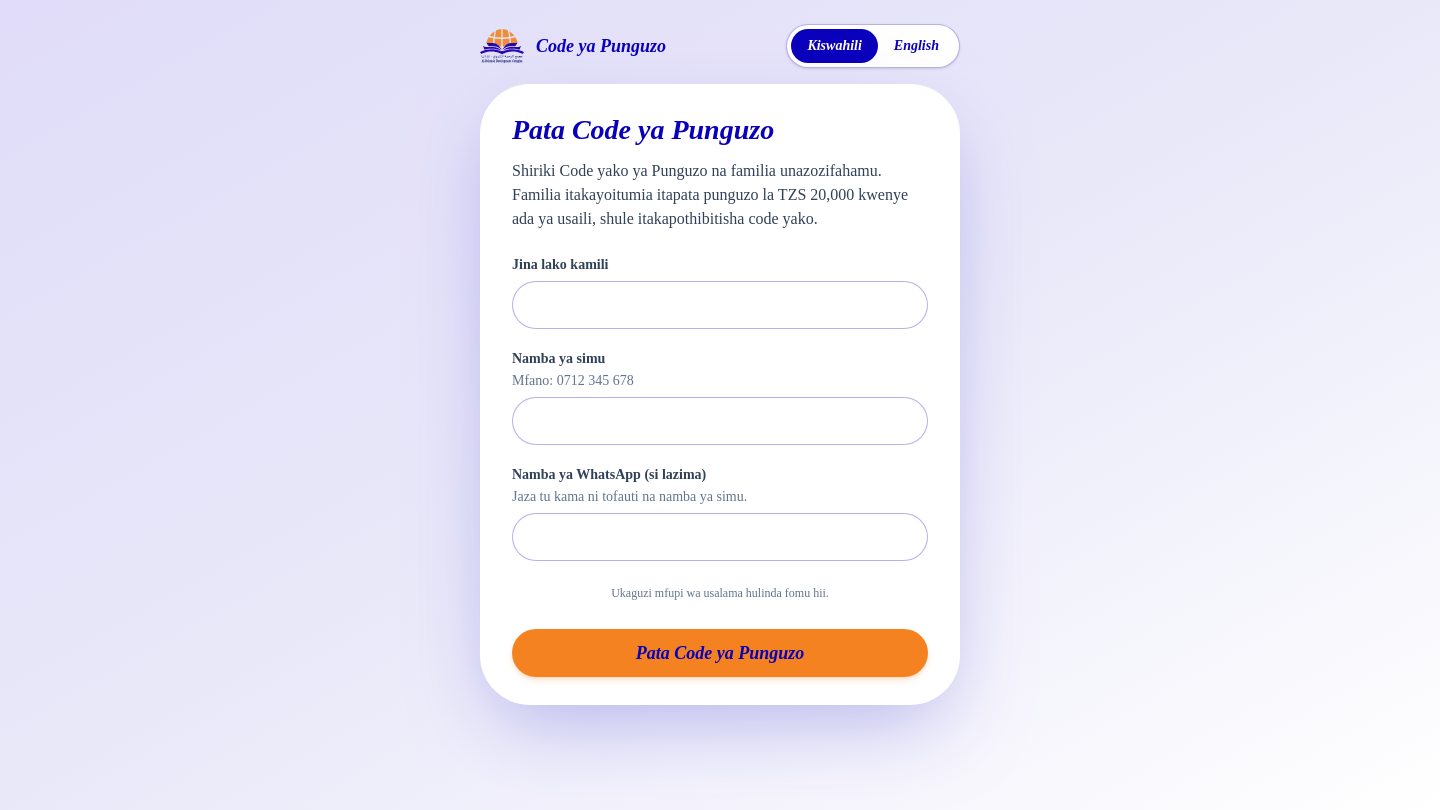
Test: the Discount code page › waits for the security check before sending
Type "Rehema Juma" into the field labelled "Jina lako kamili".
click(720, 305); type("Rehema Juma")  # box [512,281,928,329]
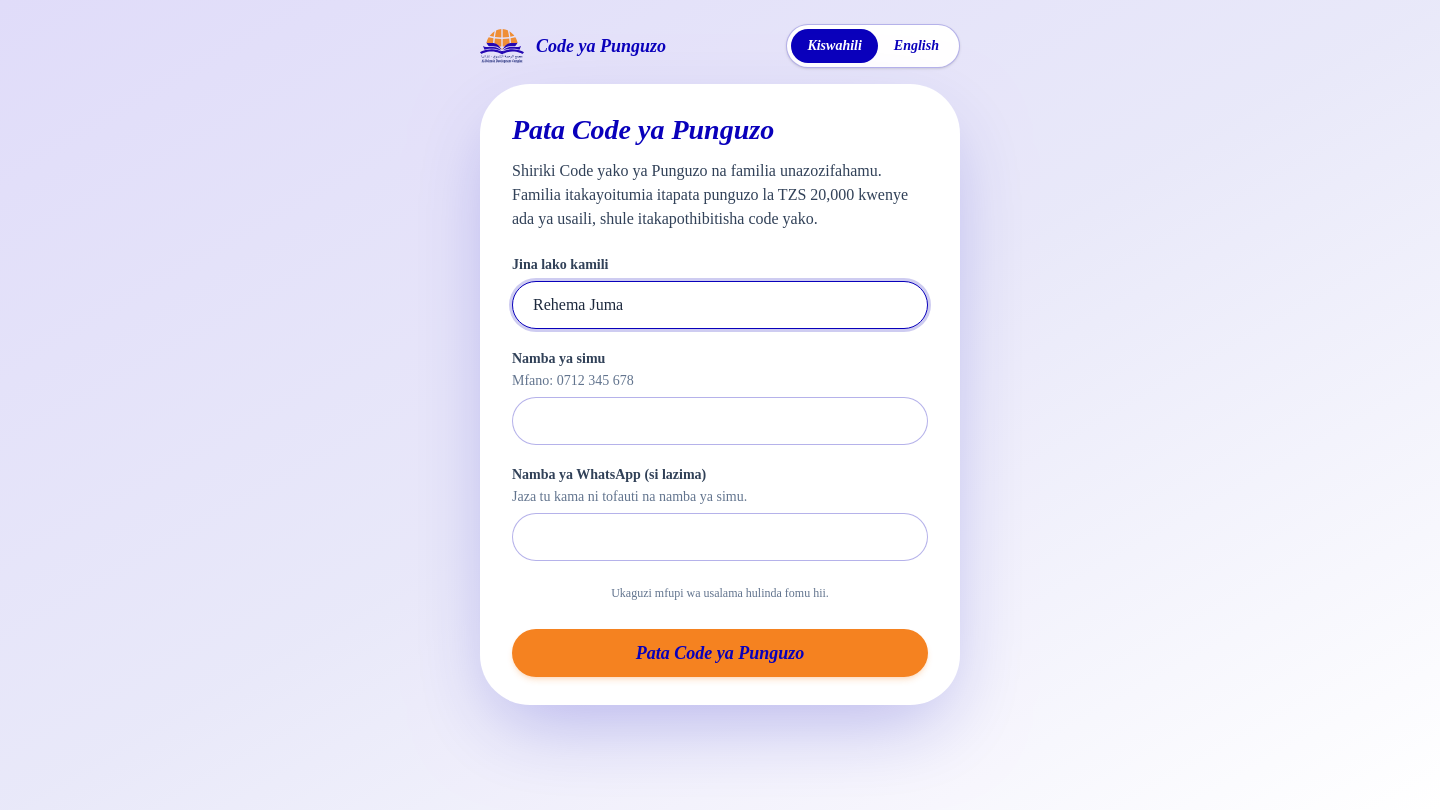
Type "0712 345 678" into the field labelled "Namba ya simu".
click(720, 421); type("0712 345 678")  # box [512,397,928,445]
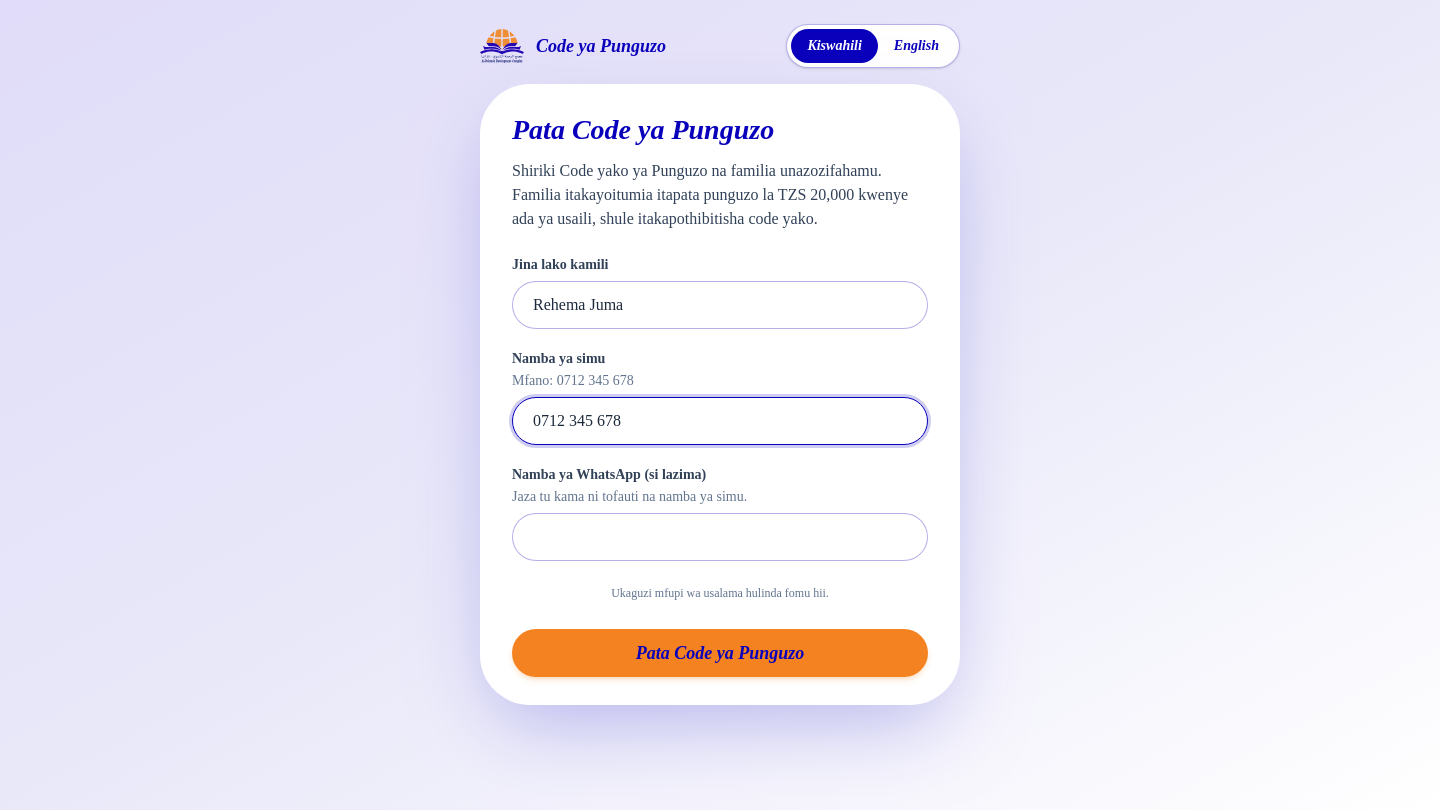
Click the button "Pata Code ya Punguzo".
click(720, 653)  # box [512,629,928,677]
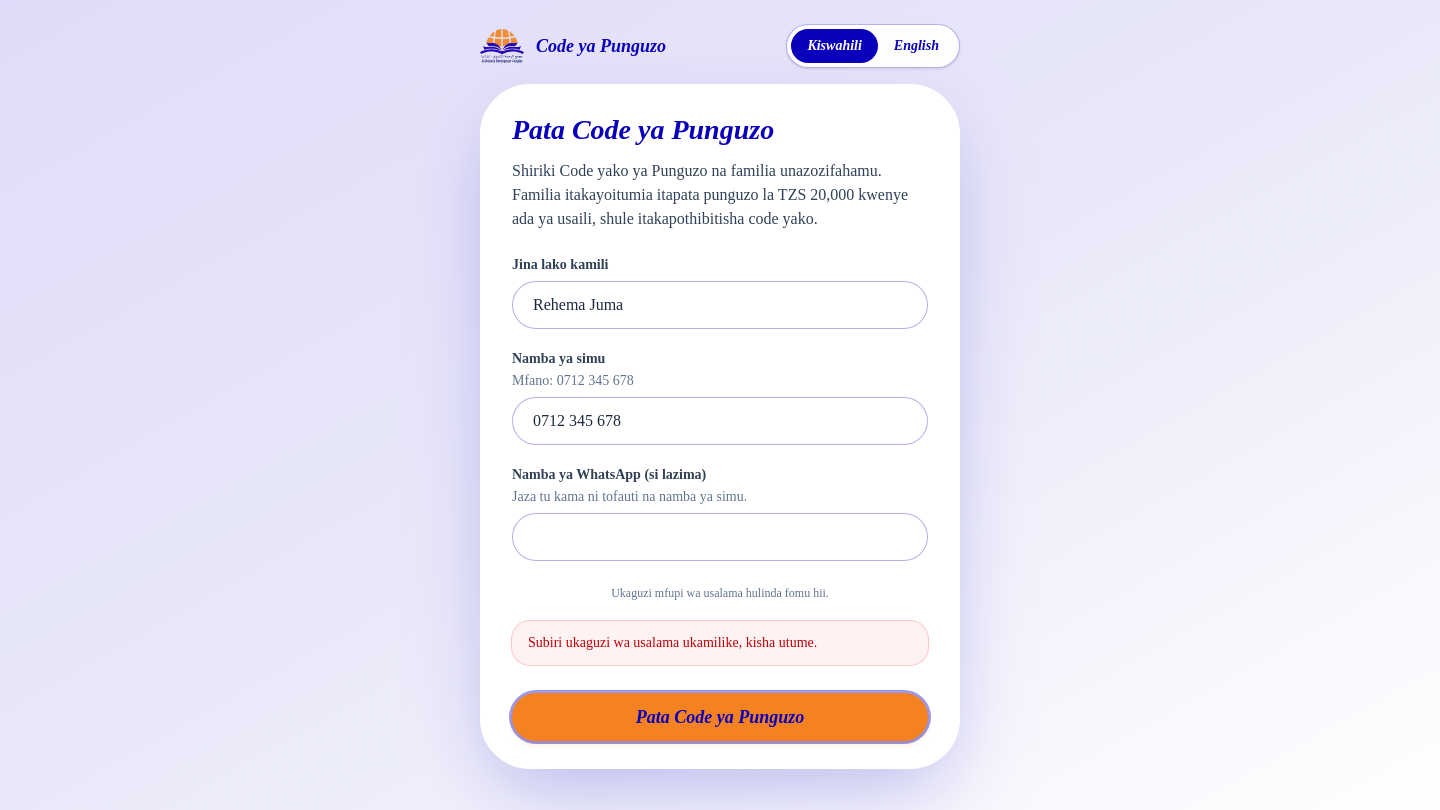
Result: the message shows "Subiri ukaguzi wa usalama" at [528,635,817,650]
